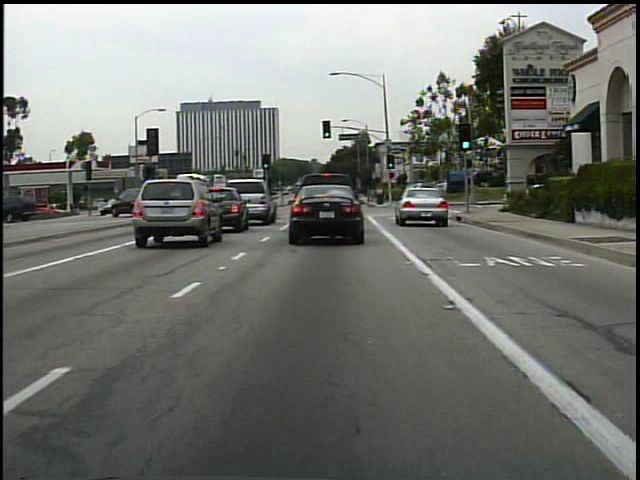person: (374, 182, 388, 208)
